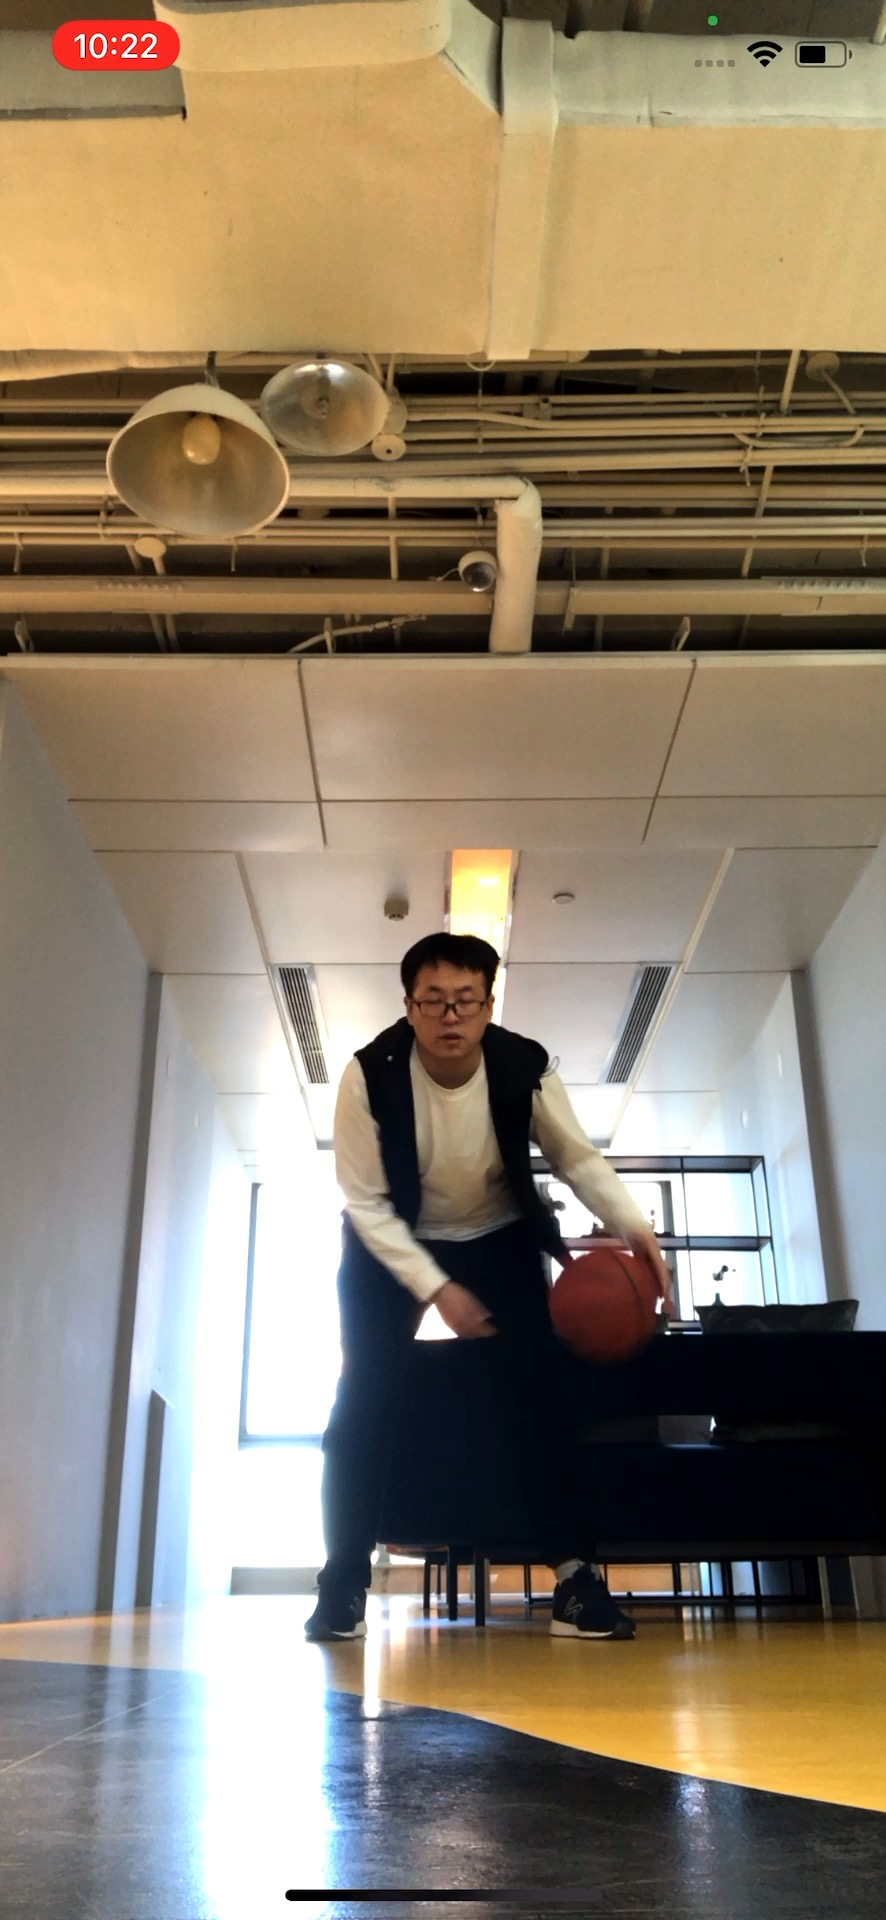ball: (549, 1245, 661, 1357)
